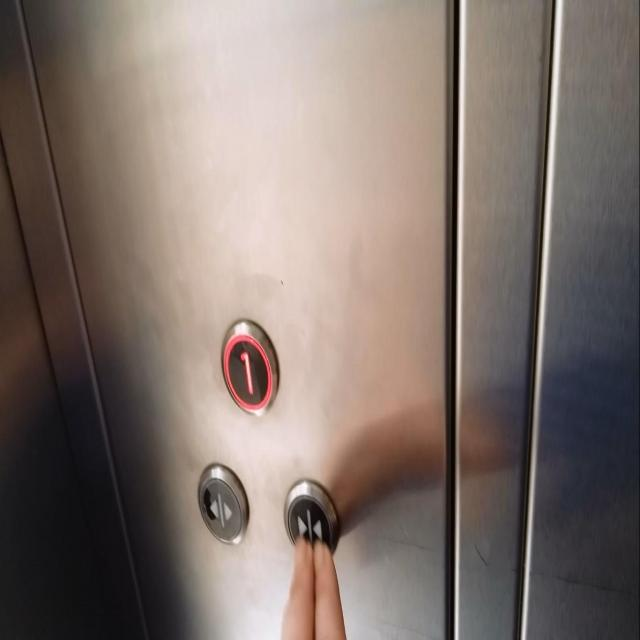1: (217, 315, 282, 420)
close: (282, 475, 340, 561)
open: (197, 461, 251, 553)
